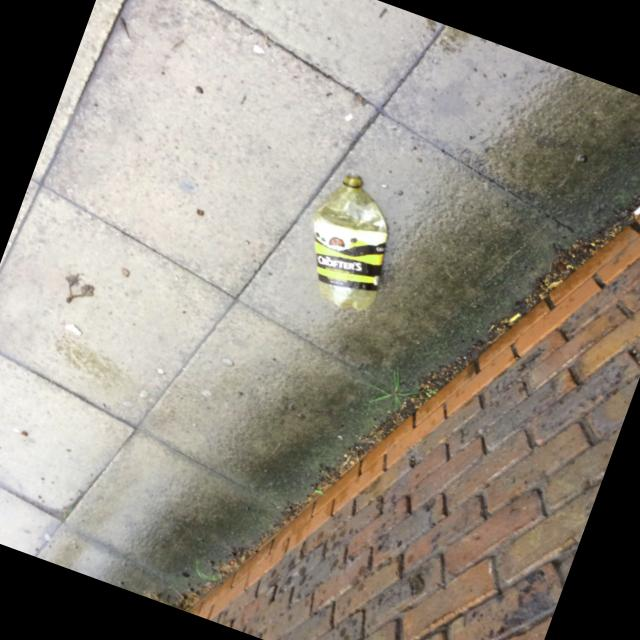less trash: (313, 175, 388, 311)
